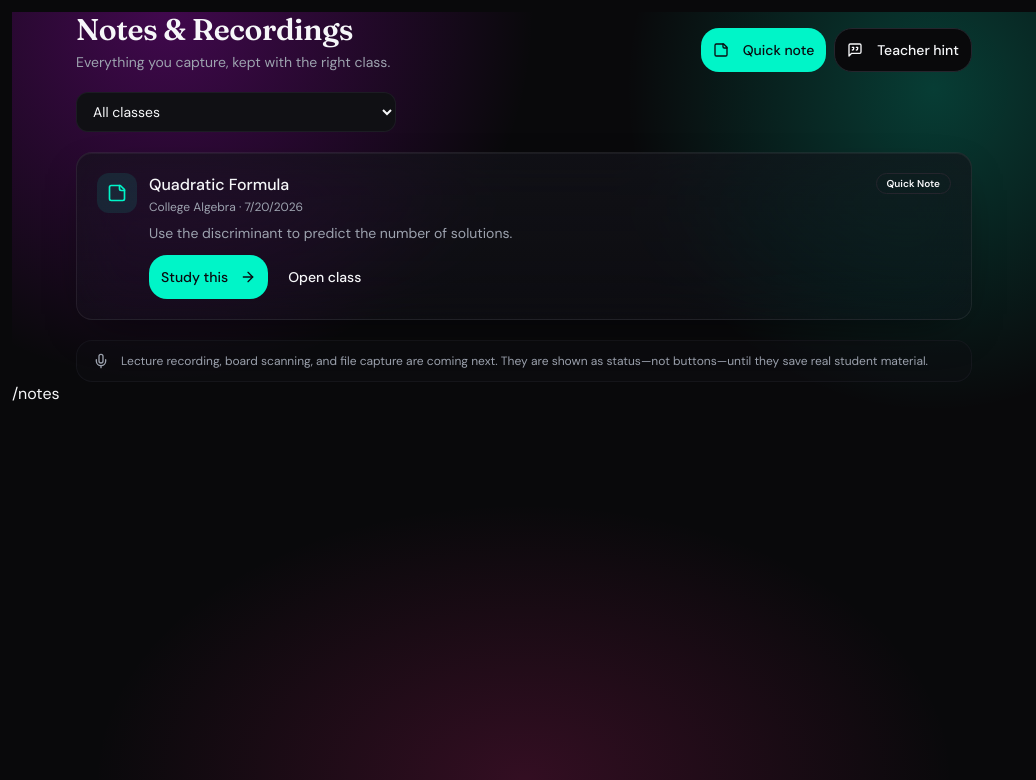
Scenario: real notes and recordings › loads the signed-in student's real capture and opens an exact study target
The image size is (1036, 780).
Expected: the text "Quadratic Formula" is shown, [149,173,303,197]
Expected: the text "Use the discriminant to predict the number of solutions." is shown, [149,224,512,242]
What coordinates should you click on to do the following:
click the button "Study this"
I would click on:
 (209, 277)
Its box is [149,255,268,299].
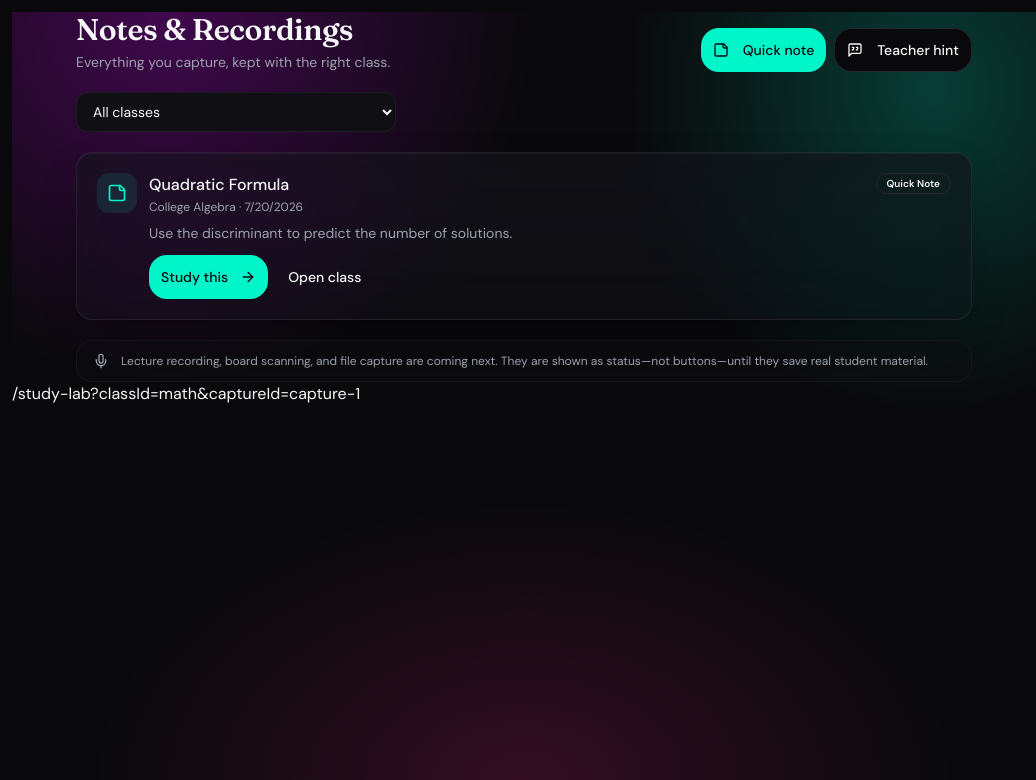
Expected: the text with test id "location" reads "/study-lab?classId=math&captureId=capture-1", [12,383,360,404]
